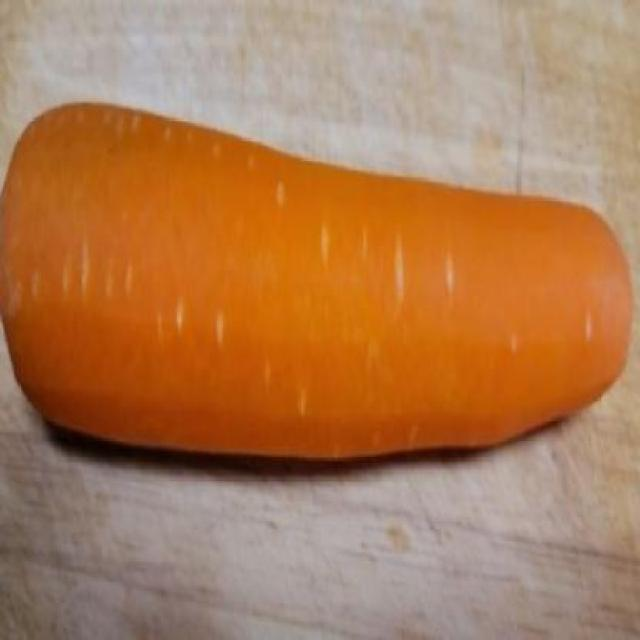carrot: (2, 100, 632, 474)
